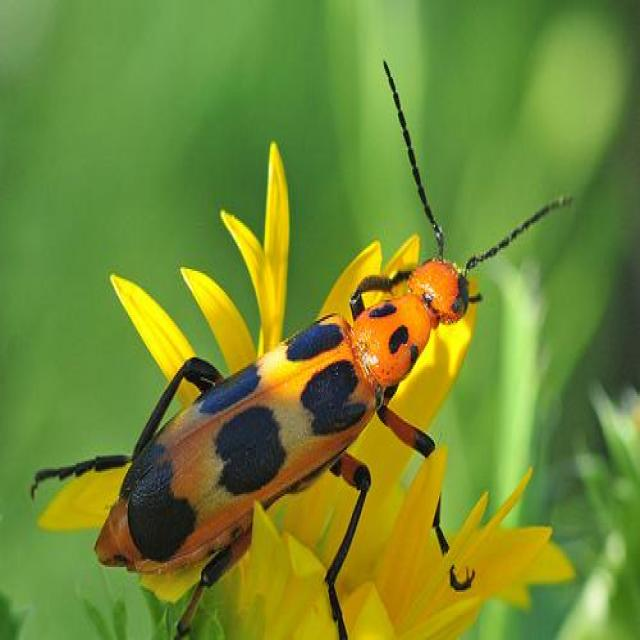BlisterBeetle-Adult-: (80, 47, 584, 592)
